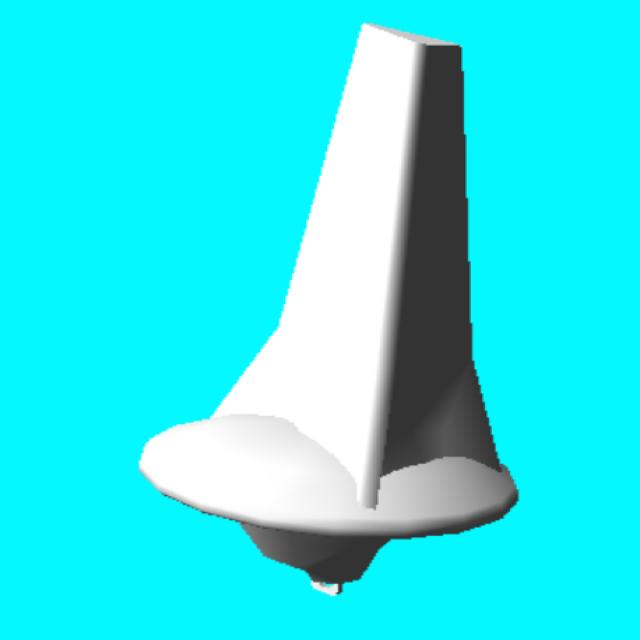WhiteBuoy: (141, 25, 517, 587)
